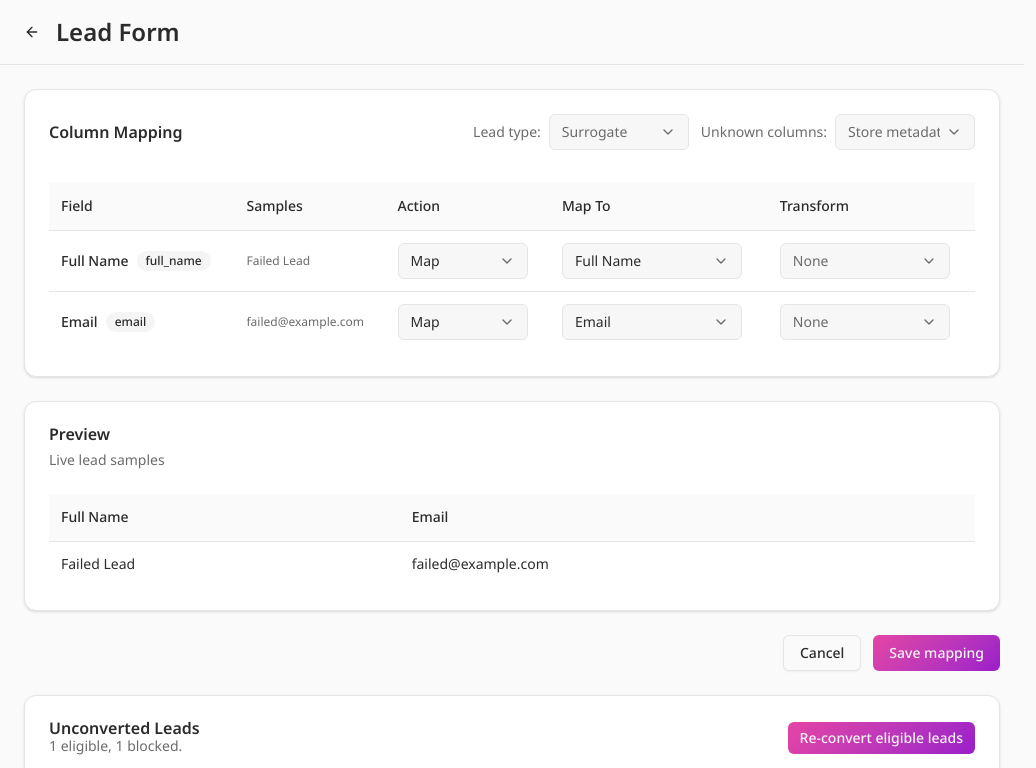
Test: MetaFormMappingPage › queues eligible leads for reconversion with one click
Click the button "Re-convert eligible leads": click(881, 738) left=788, top=722, right=975, bottom=754
(page scrolled)
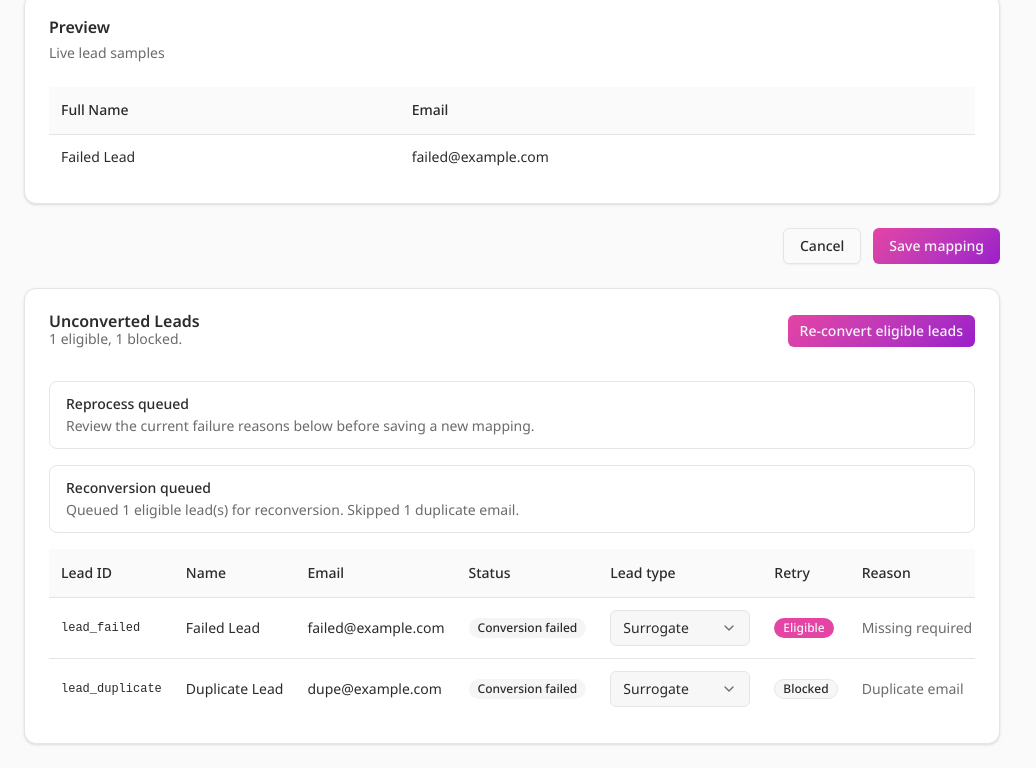
Expected: the text "Queued 1 eligible lead(s) for reconversion" is shown, left=66, top=500, right=519, bottom=519
